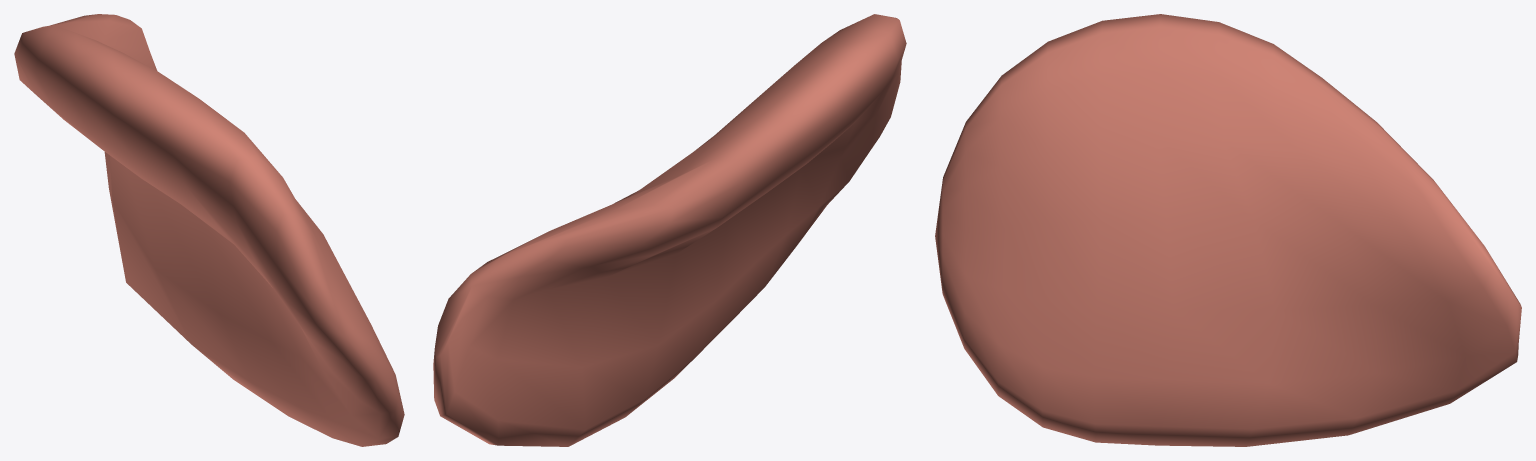
3 renders of one model, left to right at view 1: azimuth 30°, elevation 25°; view 2: azimuth 150°, elevation 25°; view 3: azimuth 270°, elevation 25°, orthographic. The views are drawn at different scales.
Visible parts, largest first — view 1: 左侧髂肌腱下囊; view 2: 左侧髂肌腱下囊; view 3: 左侧髂肌腱下囊.
Part boxes in pixels (left/top/right/bottom): 左侧髂肌腱下囊: left=14, top=14, right=404, bottom=446; 左侧髂肌腱下囊: left=433, top=14, right=906, bottom=446; 左侧髂肌腱下囊: left=935, top=14, right=1521, bottom=446.
Bounding box in the file's own units: 0.0137 × 0.0195 × 0.0306.
